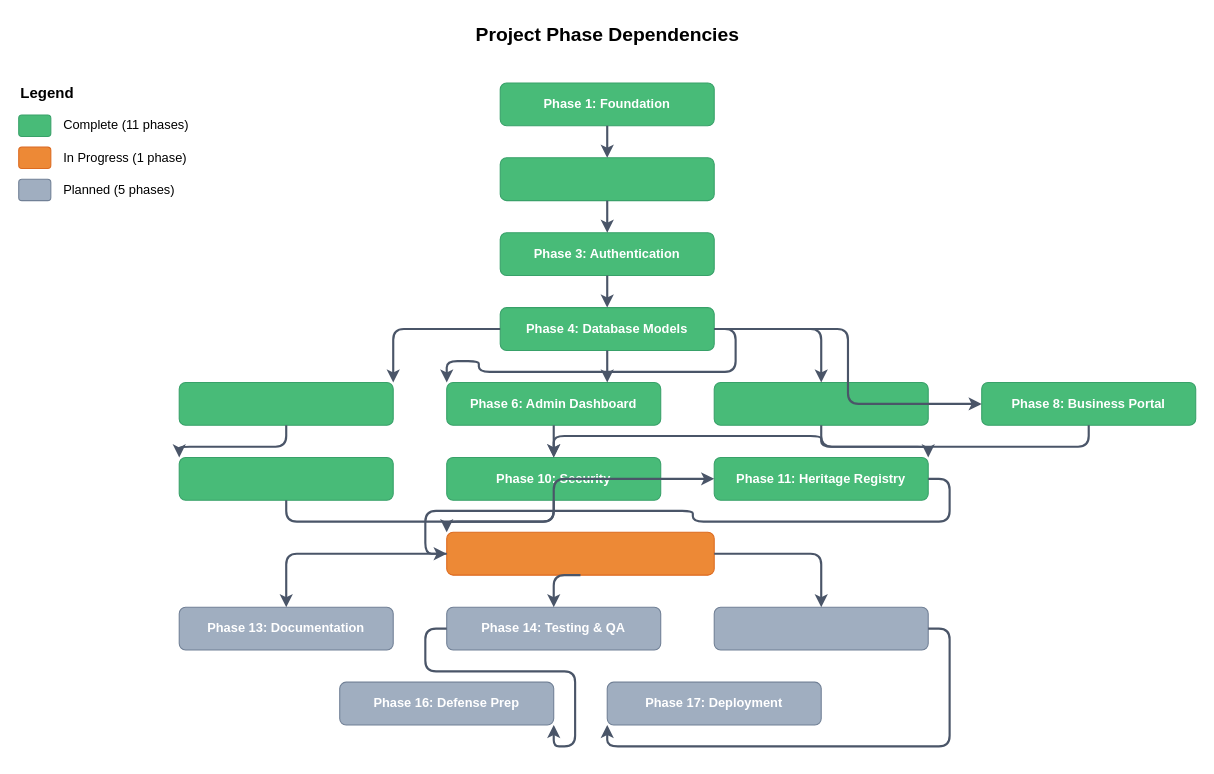
Image size: 1214x774. Some labels were removed from this diagram. Each missing label, with the centre of its shape:
Phase 12: Trip Cost Estimator 🔄: (x=580, y=553)
Phase 15: Performance: (x=820, y=628)
Phase 2: Core Infrastructure: (x=606, y=179)
Phase 5: Public Pages: (x=285, y=403)
Phase 7: Barangay Dashboard: (x=820, y=403)
Phase 9: Map & Tile System: (x=285, y=478)
